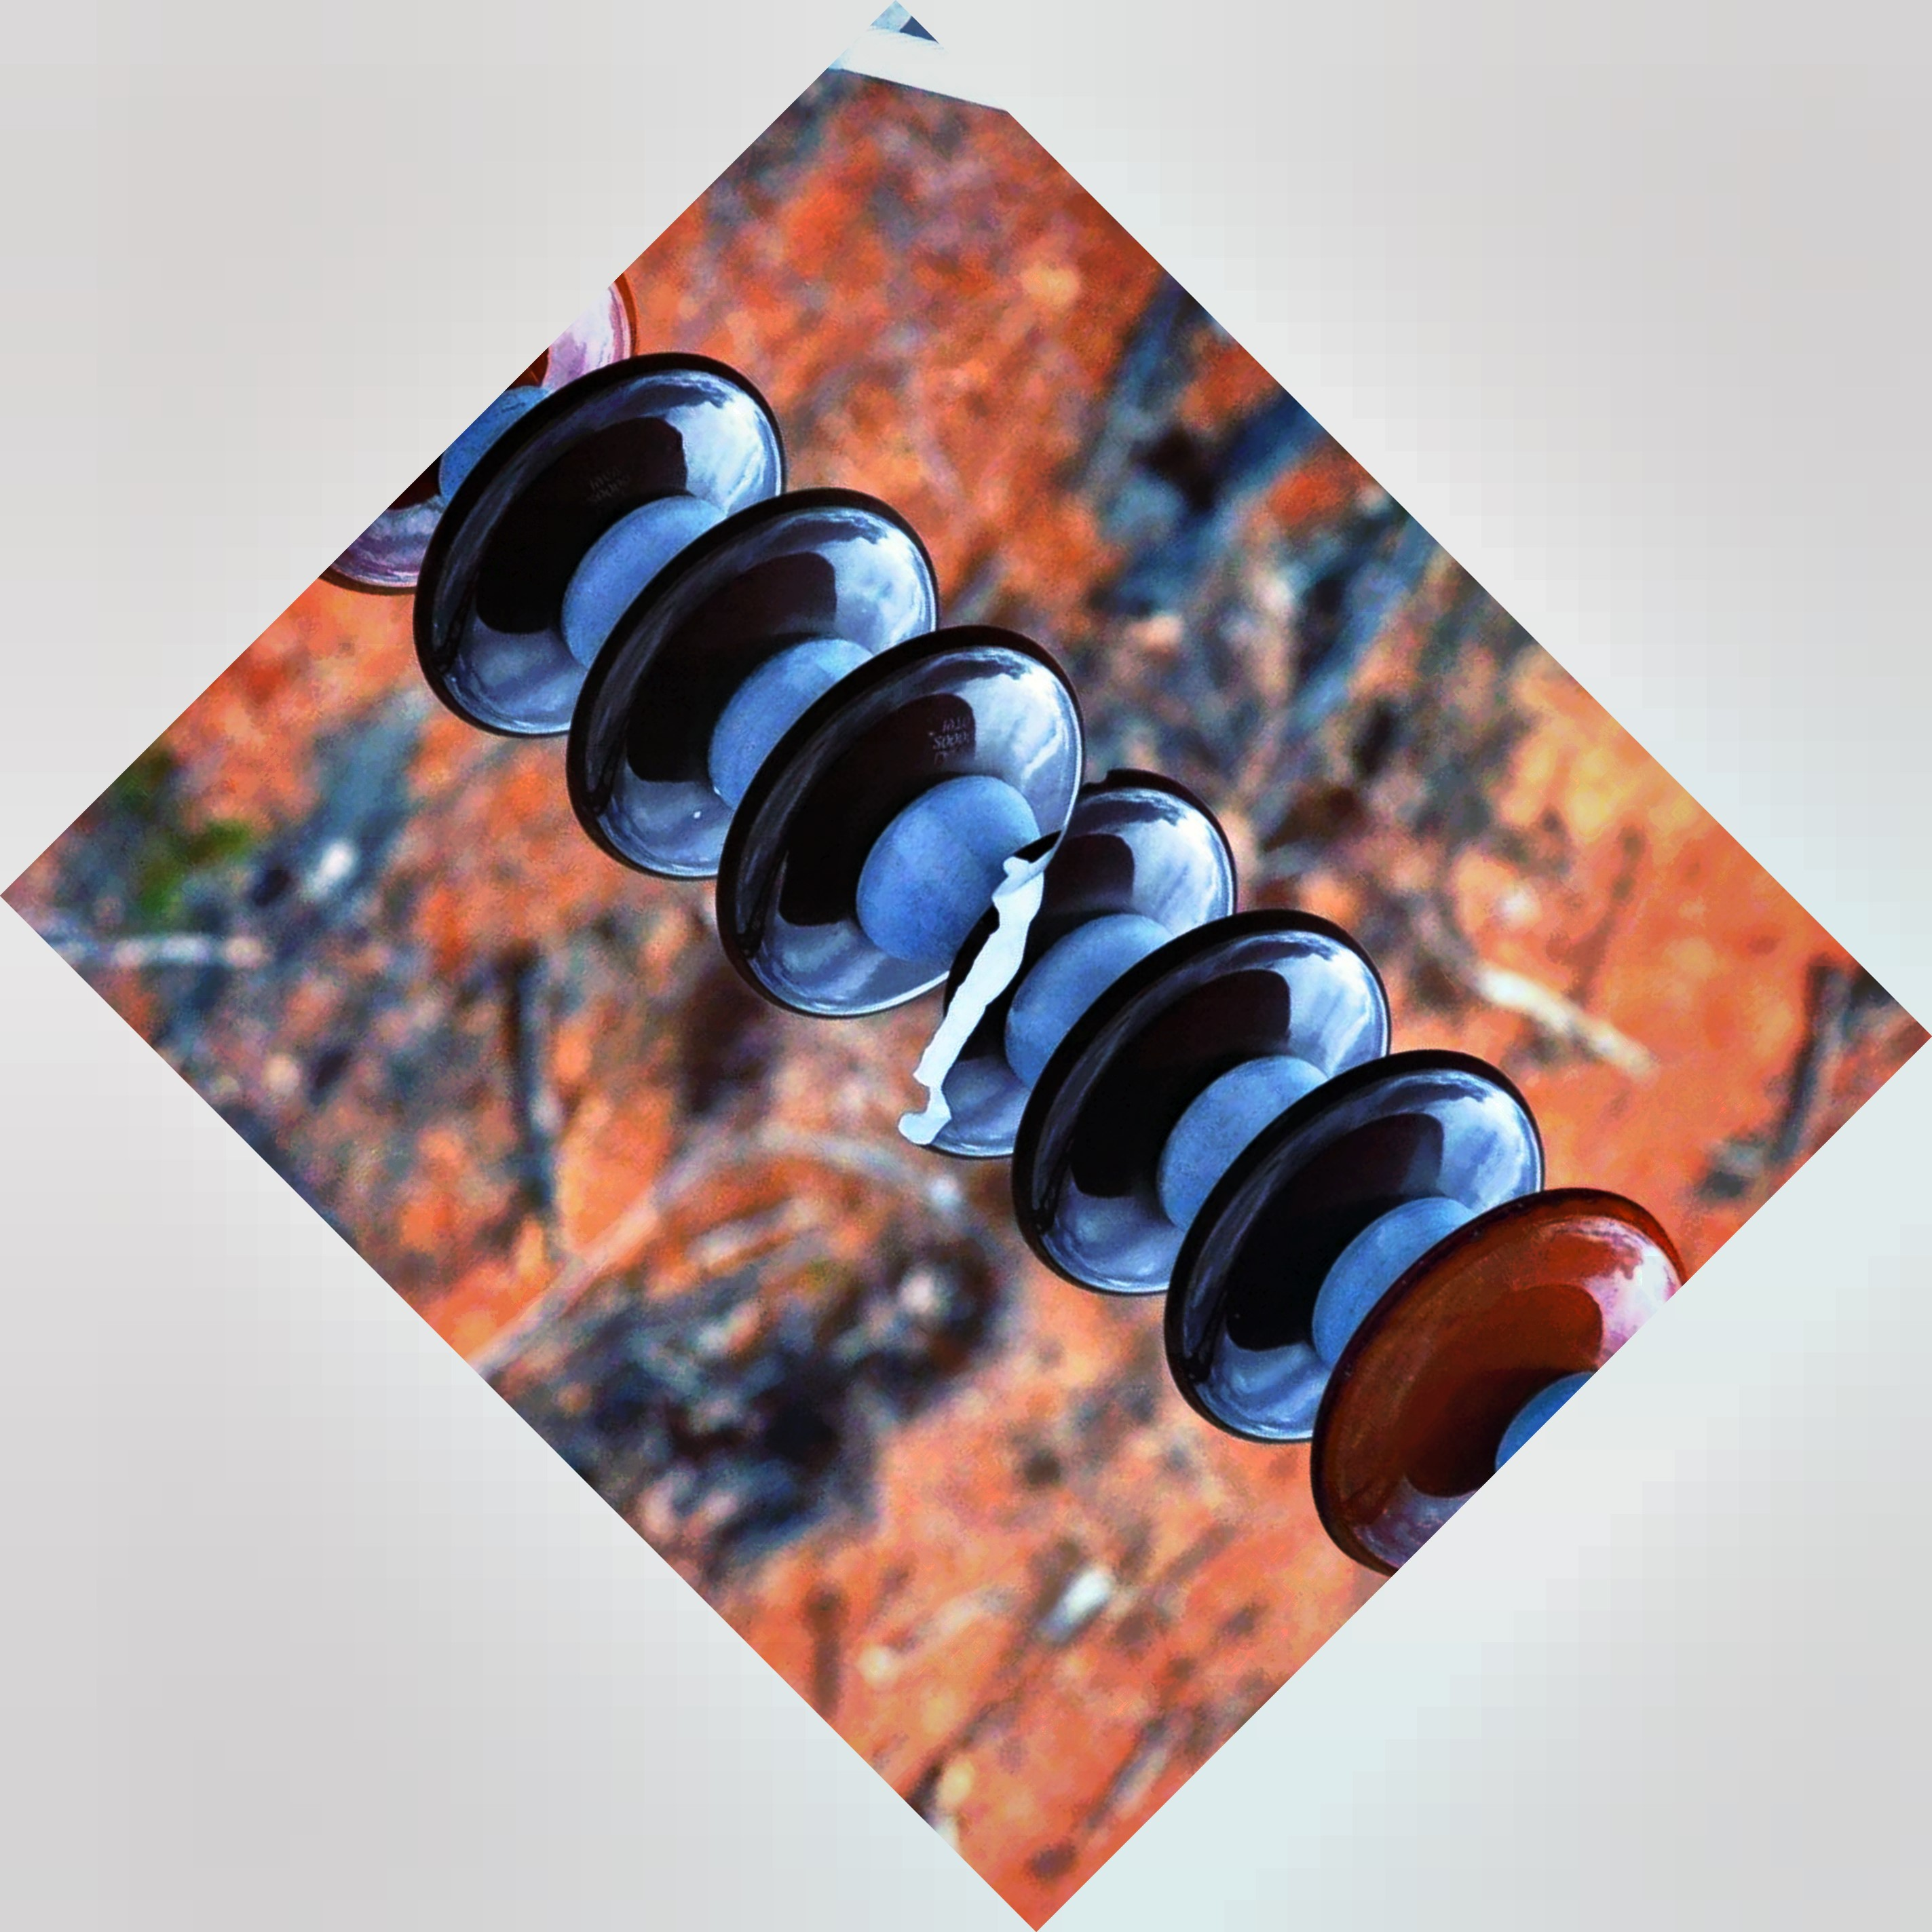insulator breakage: (888, 757, 1247, 1182)
